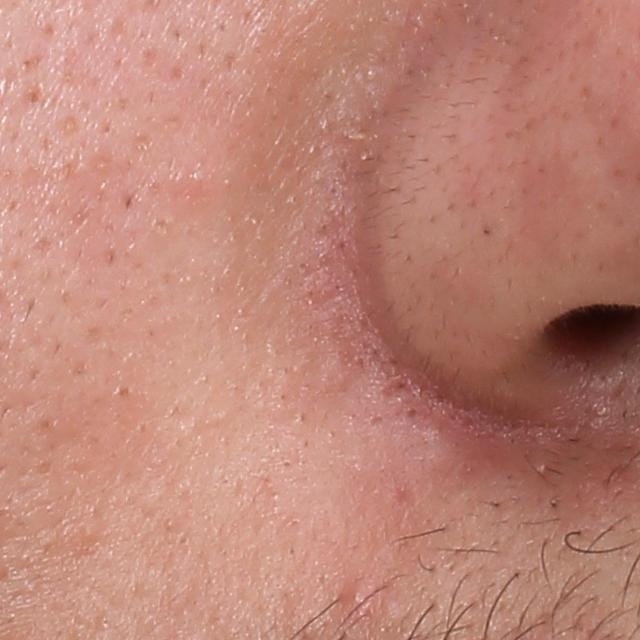papule: (341, 582, 373, 610)
